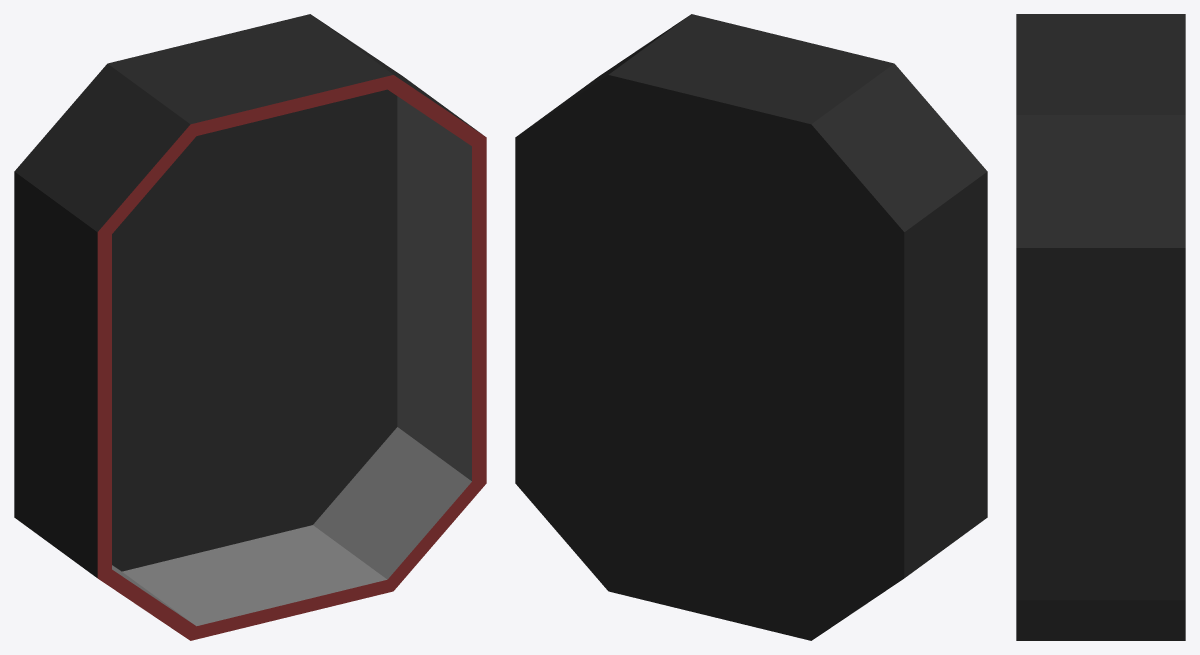
Rendered from Shelf_5.fbx.
The picture shows the model from 3 angles, left to right: view 1: azimuth 30°, elevation 25°; view 2: azimuth 150°, elevation 25°; view 3: azimuth 270°, elevation 25°; orthographic projection.
Visible parts, largest first — view 1: Shelf_5; view 2: Shelf_5; view 3: Shelf_5.
Boxes of the visible parts, x1,y1,x2,y2 form: Shelf_5: [14, 14, 486, 640]; Shelf_5: [515, 14, 987, 640]; Shelf_5: [1016, 14, 1185, 640].
Bounding box in the file's own units: 0.4011 × 0.509 × 0.1485.
